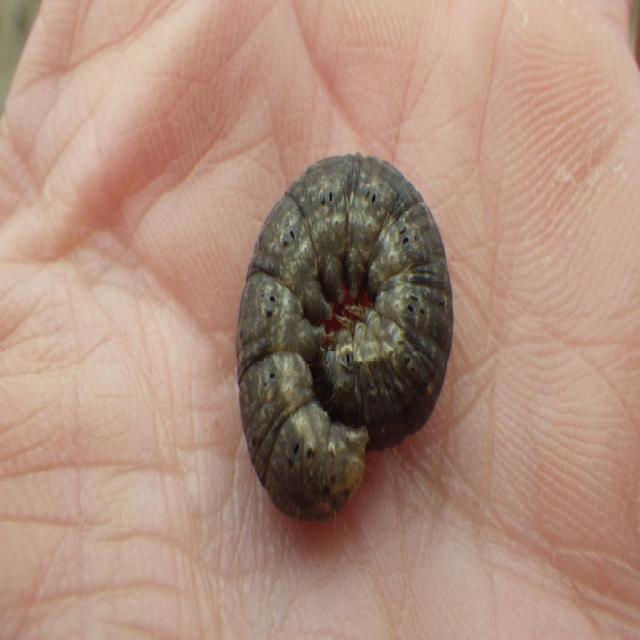worm: (235, 151, 455, 522)
